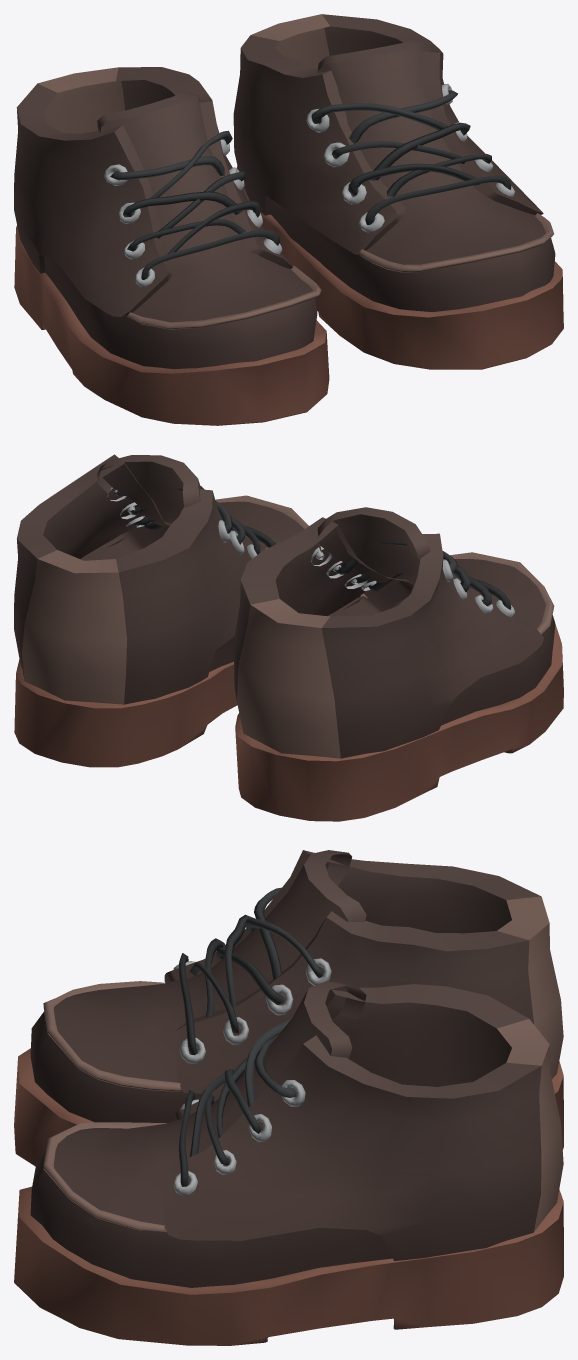
The model's file is Shoe_Sneakers_06.glb.
3 renders of one model, top to bottom at view 1: azimuth 30°, elevation 25°; view 2: azimuth 150°, elevation 25°; view 3: azimuth 270°, elevation 25°, orthographic. The views are drawn at different scales.
Visible parts, largest first — view 1: Shoe_Sneakers_06; view 2: Shoe_Sneakers_06; view 3: Shoe_Sneakers_06.
Boxes of the visible parts, box(x1,y1,x2,y2) form: Shoe_Sneakers_06: box(14, 14, 563, 425); Shoe_Sneakers_06: box(14, 454, 563, 821); Shoe_Sneakers_06: box(14, 850, 563, 1345).
Bounding box in the file's own units: 0.2601 × 0.127 × 0.2255.
1 material, 1 textured.
